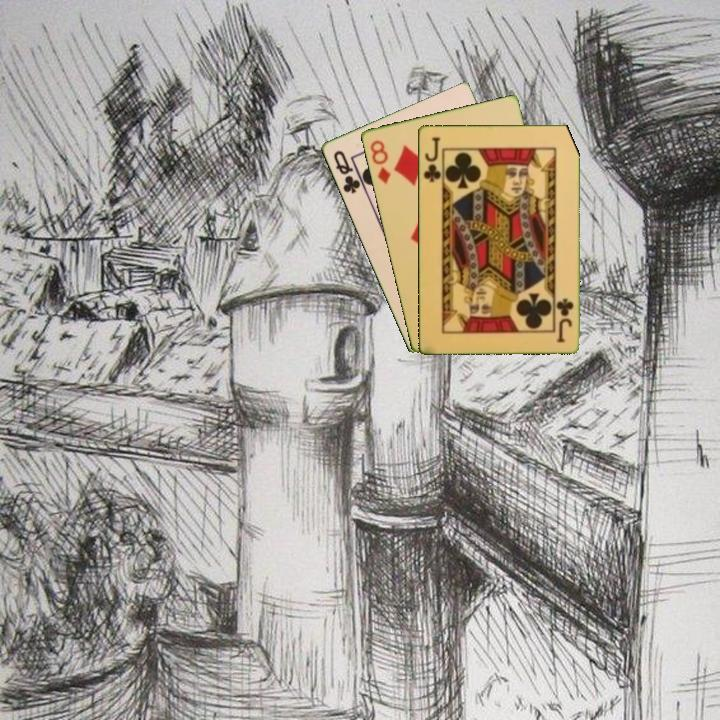8d: (366, 136, 393, 186)
Jc: (420, 133, 443, 185), (553, 295, 576, 345)
Qc: (330, 147, 363, 197)
